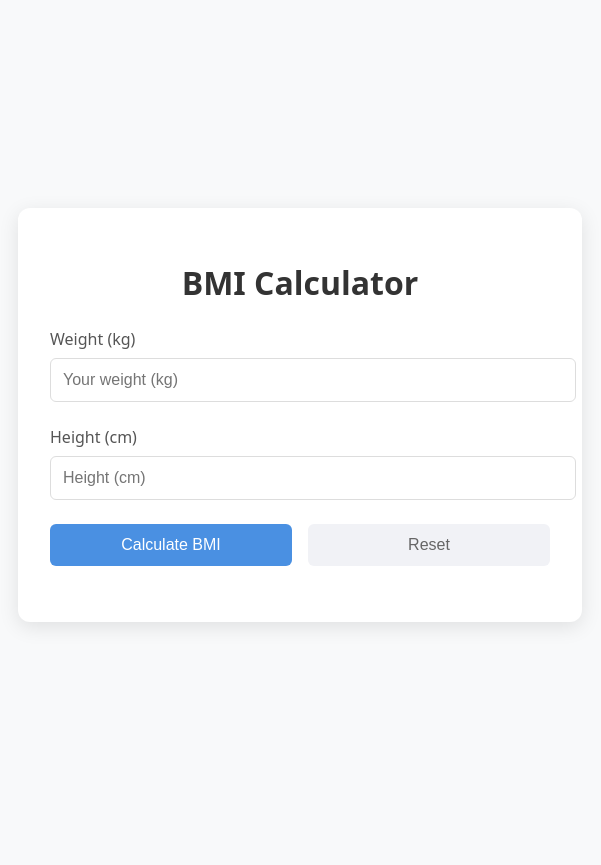
BMI Calculator › resets form correctly
Note: Fill in values and calculate
Step 1. Type "70" into the number field labelled "Weight (kg)" → (313, 380), box [50,358,576,402]
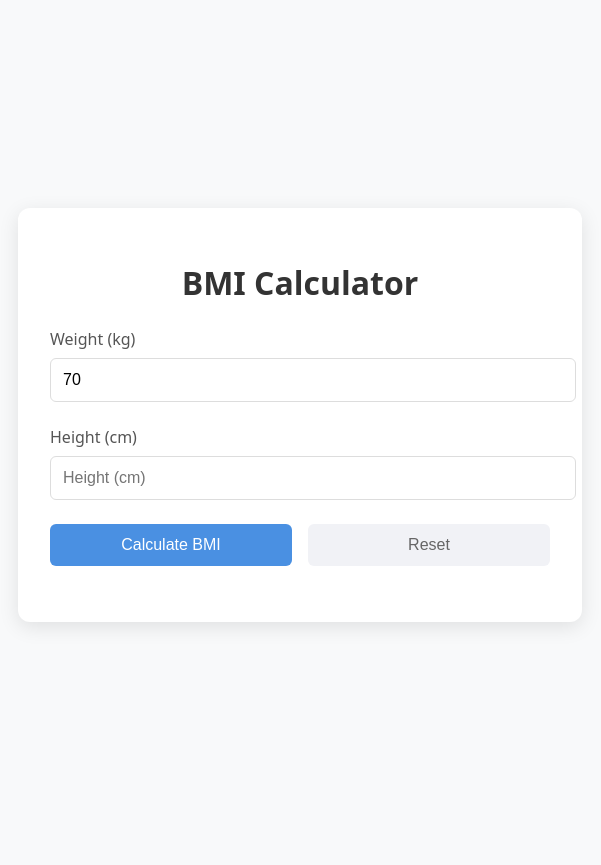
Step 2. Type "175" into the number field labelled "Height (cm)" → (313, 478), box [50,456,576,500]
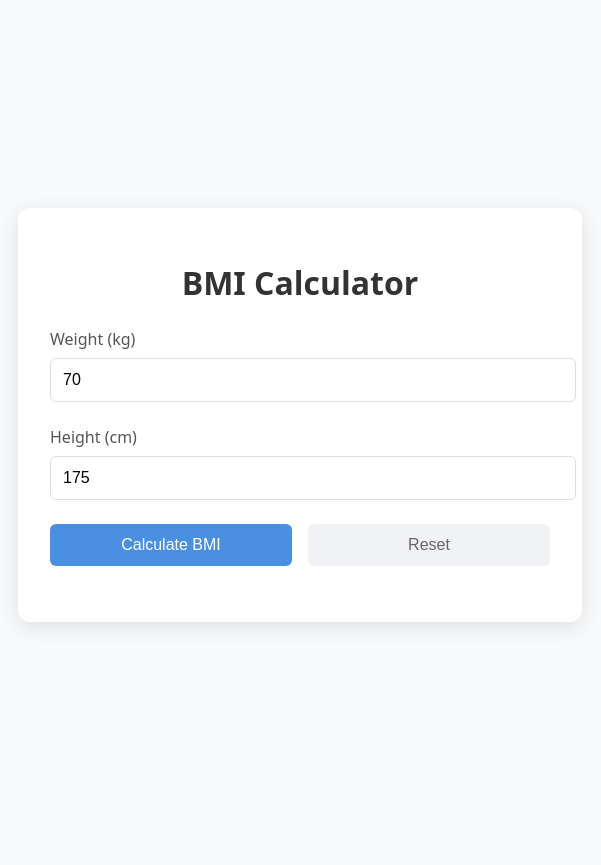
Step 3. Click the button "Calculate BMI" → (171, 545), box [50,524,292,566]
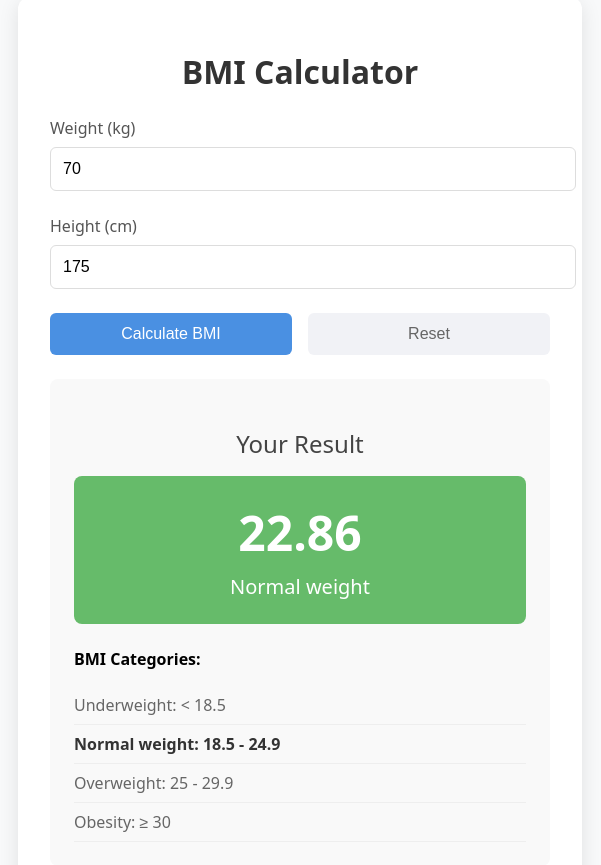
Expected: the text "22.86" is shown, [238,500,362,565]
Note: Reset form
Step 4. Click the button "Reset" → (429, 334), box [308,313,550,355]
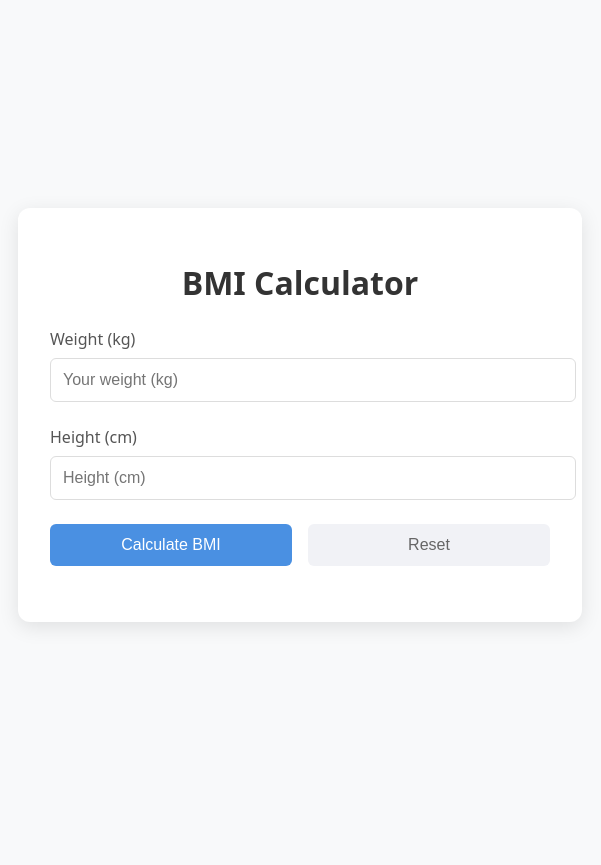
Expected: the number field labelled "Weight (kg)" is empty, [50,358,576,402]
Expected: the number field labelled "Height (cm)" is empty, [50,456,576,500]
Expected: the text "22.86" is gone
